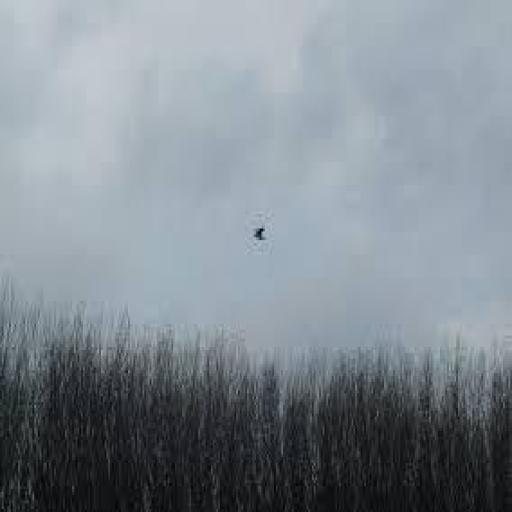birds: (252, 225, 268, 245)
